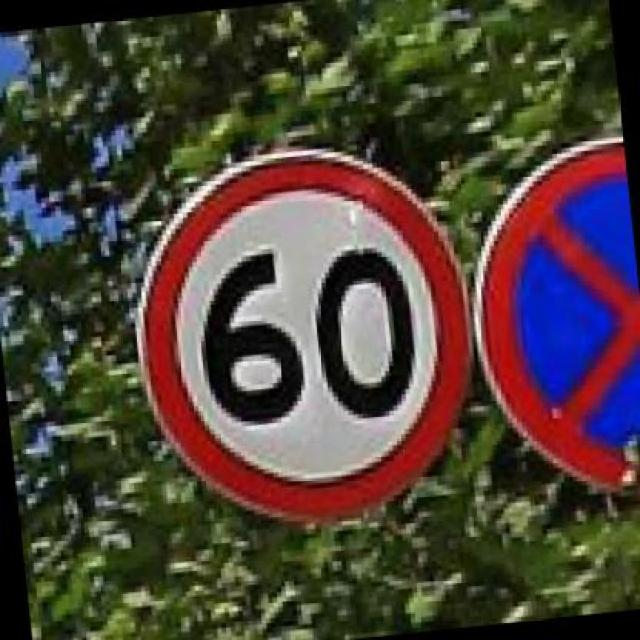Limite-60: (132, 148, 474, 526)
